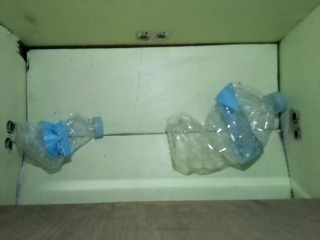damaged-bottle: (165, 82, 286, 177), (17, 112, 104, 173)
